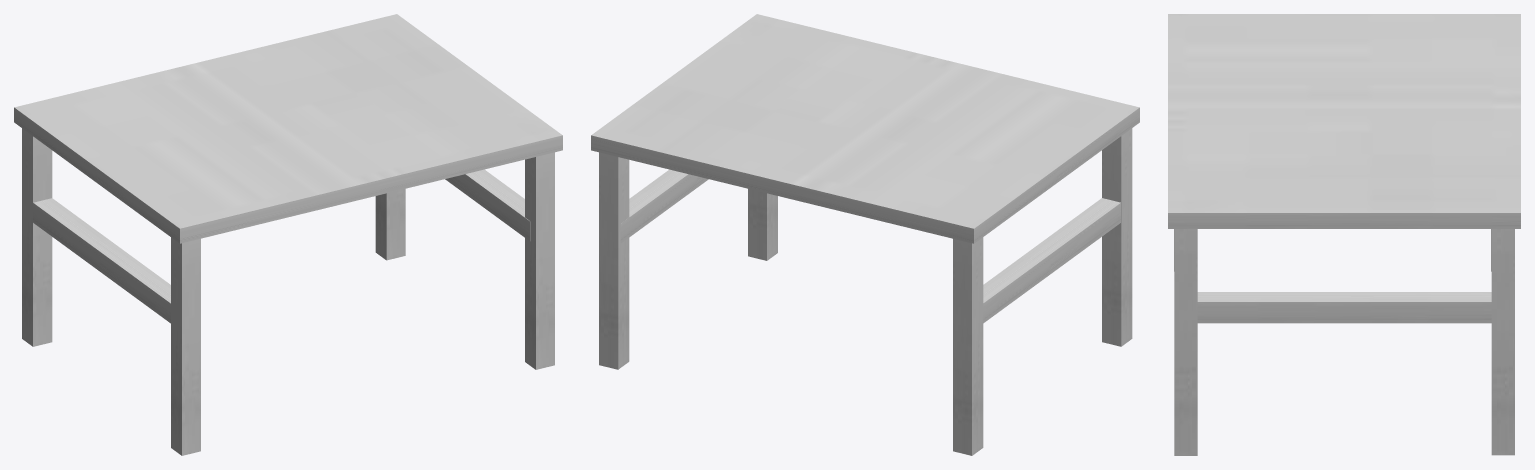
Rendered from Meja2_putih.gltf.
The picture shows the model from 3 angles, left to right: view 1: azimuth 30°, elevation 25°; view 2: azimuth 150°, elevation 25°; view 3: azimuth 270°, elevation 25°; orthographic projection. The views are drawn at different scales.
Visible parts, largest first — view 1: Cube, Cube.003, Cube.001, Cube.004, Cube.006, Cube.005, Cube.002; view 2: Cube, Cube.004, Cube.002, Cube.003, Cube.006, Cube.005, Cube.001; view 3: Cube, Cube.005, Cube.001, Cube.002.
Boxes of the visible parts, x1,y1,x2,y2 form: Cube: [14, 14, 562, 243]; Cube.003: [171, 237, 200, 455]; Cube.001: [525, 152, 554, 369]; Cube.004: [22, 128, 52, 346]; Cube.006: [33, 198, 170, 323]; Cube.005: [445, 169, 530, 240]; Cube.002: [375, 189, 405, 260]; Cube: [591, 14, 1139, 243]; Cube.004: [953, 237, 983, 455]; Cube.002: [599, 152, 629, 369]; Cube.003: [1102, 128, 1132, 346]; Cube.006: [983, 198, 1120, 323]; Cube.005: [620, 169, 708, 243]; Cube.001: [748, 189, 777, 260]; Cube: [1168, 14, 1520, 228]; Cube.005: [1197, 292, 1491, 323]; Cube.001: [1174, 229, 1197, 455]; Cube.002: [1491, 229, 1514, 455].
Bounding box in the file's own units: 8 × 4.61 × 6.
7 materials, 7 textured.
